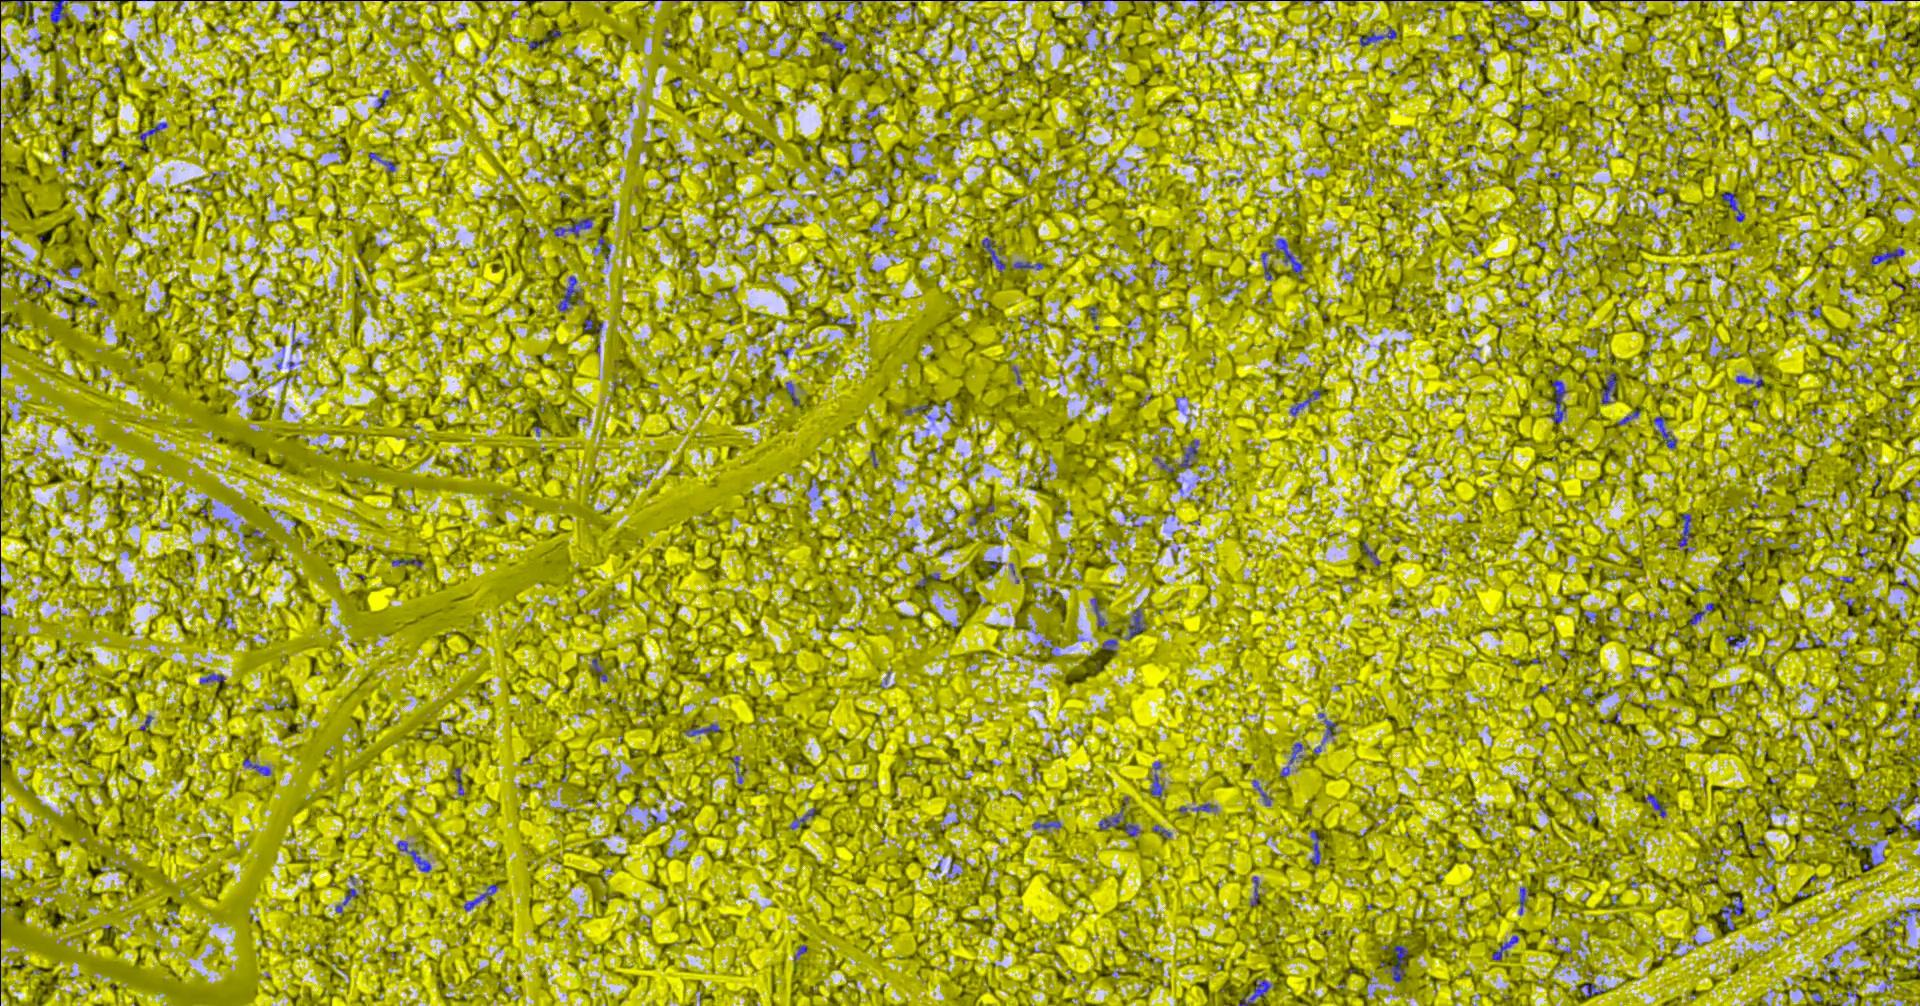ant: (397, 840, 432, 871), (1277, 238, 1304, 273), (555, 216, 596, 238), (465, 884, 499, 909), (1291, 389, 1322, 415), (1241, 979, 1272, 1005), (983, 238, 1007, 271), (1722, 895, 1745, 930), (1361, 25, 1398, 46), (559, 276, 580, 310), (1655, 417, 1677, 448), (141, 122, 168, 149), (1723, 191, 1746, 221), (1552, 379, 1567, 423), (1493, 935, 1520, 960), (1392, 944, 1410, 981), (823, 30, 848, 55), (1872, 248, 1905, 265), (52, 0, 75, 24), (792, 807, 817, 829), (1601, 372, 1619, 403), (370, 152, 397, 171), (1181, 439, 1200, 467), (244, 757, 272, 775), (1646, 794, 1667, 817), (1129, 608, 1145, 638), (1255, 779, 1272, 805), (1679, 513, 1693, 546), (687, 723, 721, 735), (344, 876, 359, 904), (1365, 541, 1382, 565), (1582, 981, 1608, 996), (1093, 597, 1106, 626), (1312, 829, 1322, 865), (1737, 375, 1765, 387), (593, 658, 608, 681), (1100, 814, 1121, 829), (787, 382, 801, 405), (1324, 719, 1338, 741), (585, 319, 604, 334), (1520, 887, 1530, 915), (392, 558, 424, 567), (1290, 742, 1303, 763), (1152, 774, 1164, 795), (1015, 260, 1045, 269), (201, 673, 226, 683), (1263, 251, 1272, 279), (456, 767, 465, 794), (1727, 634, 1747, 645), (1252, 876, 1260, 906), (1034, 821, 1062, 828), (1126, 822, 1140, 836), (1103, 639, 1117, 652)
